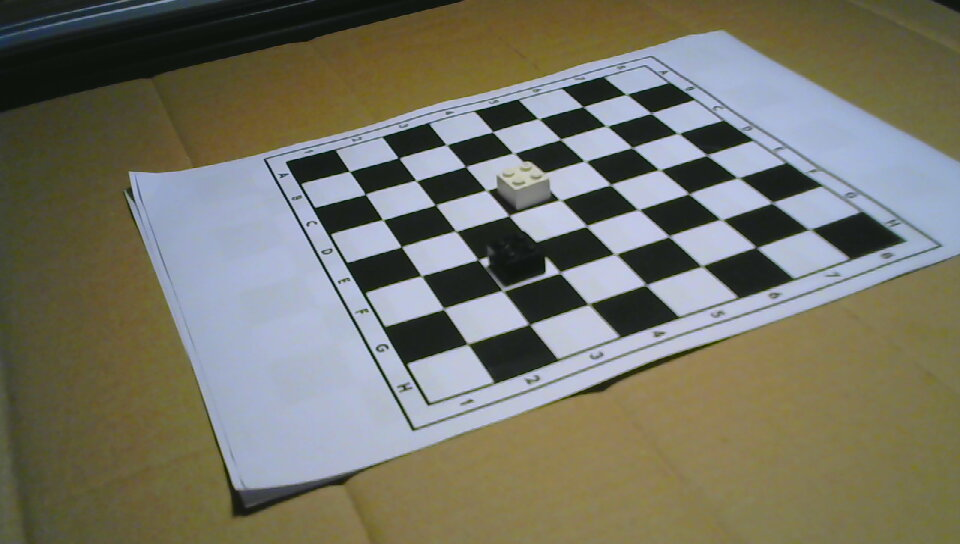bp: (488, 230, 546, 283)
wp: (495, 161, 551, 209)
